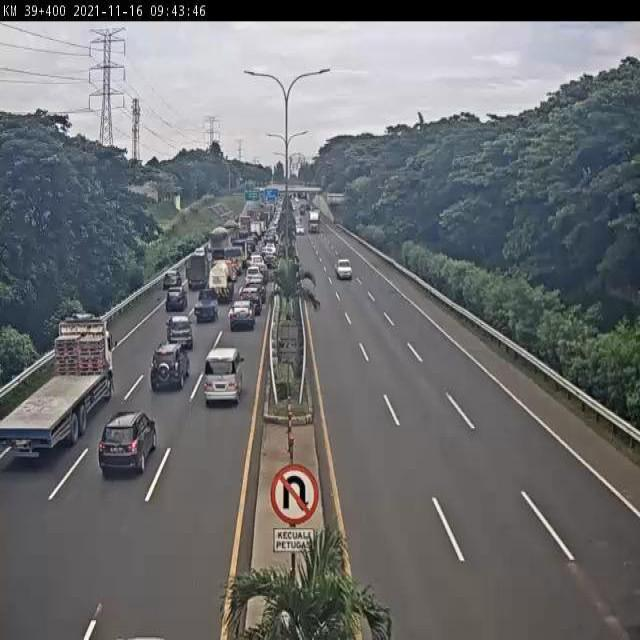car: (99, 408, 157, 477), (204, 347, 247, 409), (150, 342, 192, 394), (167, 324, 196, 363), (228, 302, 255, 338), (191, 292, 217, 327), (159, 293, 183, 319), (240, 288, 262, 315), (161, 270, 183, 290), (246, 279, 266, 300), (246, 265, 264, 284), (337, 262, 353, 282), (248, 254, 264, 266), (295, 220, 302, 229)
small truck: (184, 251, 211, 289), (224, 246, 243, 274)
truck-l-: (1, 312, 112, 455), (306, 208, 316, 227)
truck-m-: (206, 261, 234, 307), (207, 228, 229, 264)
